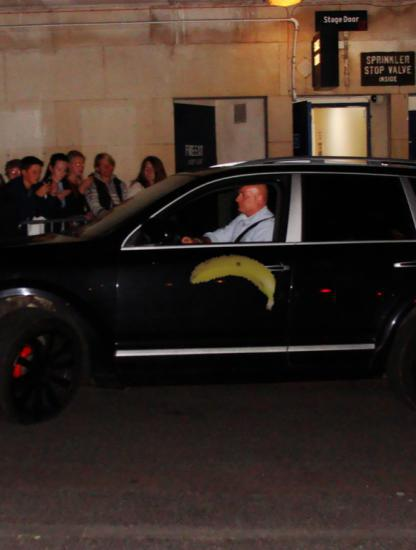Banana: (189, 235, 279, 325)
